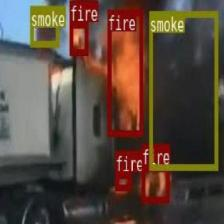fire: (107, 9, 142, 136), (141, 165, 169, 201), (69, 21, 87, 54), (115, 171, 131, 189)
smoke: (149, 10, 217, 169), (30, 4, 59, 46)
